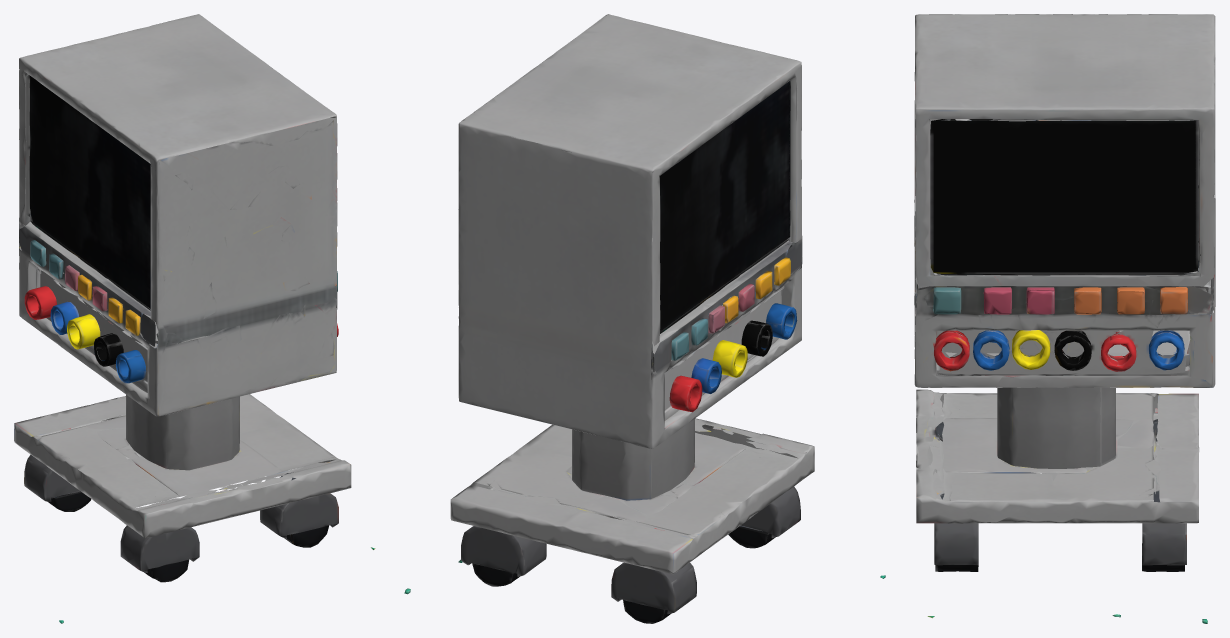
Rendered from ecg-cart.glb.
3 renders of one model, left to right at view 1: azimuth 30°, elevation 25°; view 2: azimuth 150°, elevation 25°; view 3: azimuth 270°, elevation 25°, orthographic. The views are drawn at different scales.
Parts seen in each view (by area): view 1: geometry_0; view 2: geometry_0; view 3: geometry_0.
Part boxes in pixels (<box>): geometry_0: <box>14,14,375,623</box>; geometry_0: <box>404,14,885,623</box>; geometry_0: <box>914,14,1215,623</box>.
Bounding box in the file's own units: 0.741 × 0.9999 × 0.5595.
Materials: 1 (1 with a texture image).
